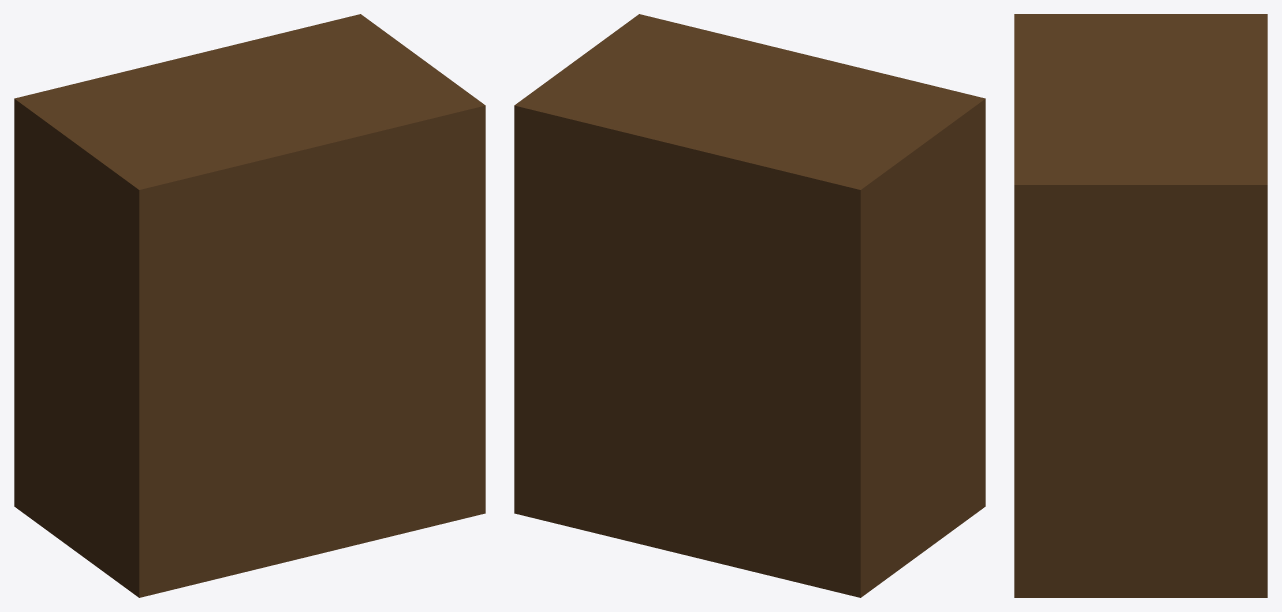
Rendered from prop_counter_register.gltf.
The picture shows the model from 3 angles, left to right: view 1: azimuth 30°, elevation 25°; view 2: azimuth 150°, elevation 25°; view 3: azimuth 270°, elevation 25°; orthographic projection.
Visible parts, largest first — view 1: CounterRegister; view 2: CounterRegister; view 3: CounterRegister.
Part boxes in pixels (x1,y1,x2,y2): CounterRegister: (14,14,485,597); CounterRegister: (514,14,985,597); CounterRegister: (1014,14,1267,597).
Size of the model in its own units: 0.8 by 0.9 by 0.5.
